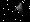person: (15, 1, 26, 17)
